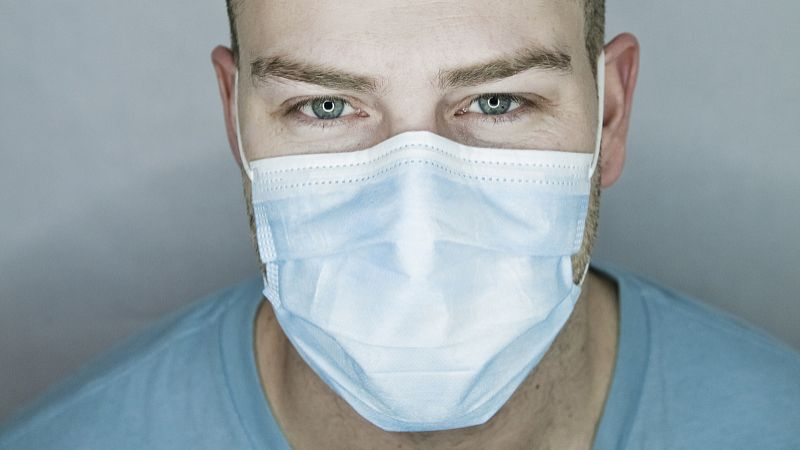mask: (255, 130, 588, 427)
